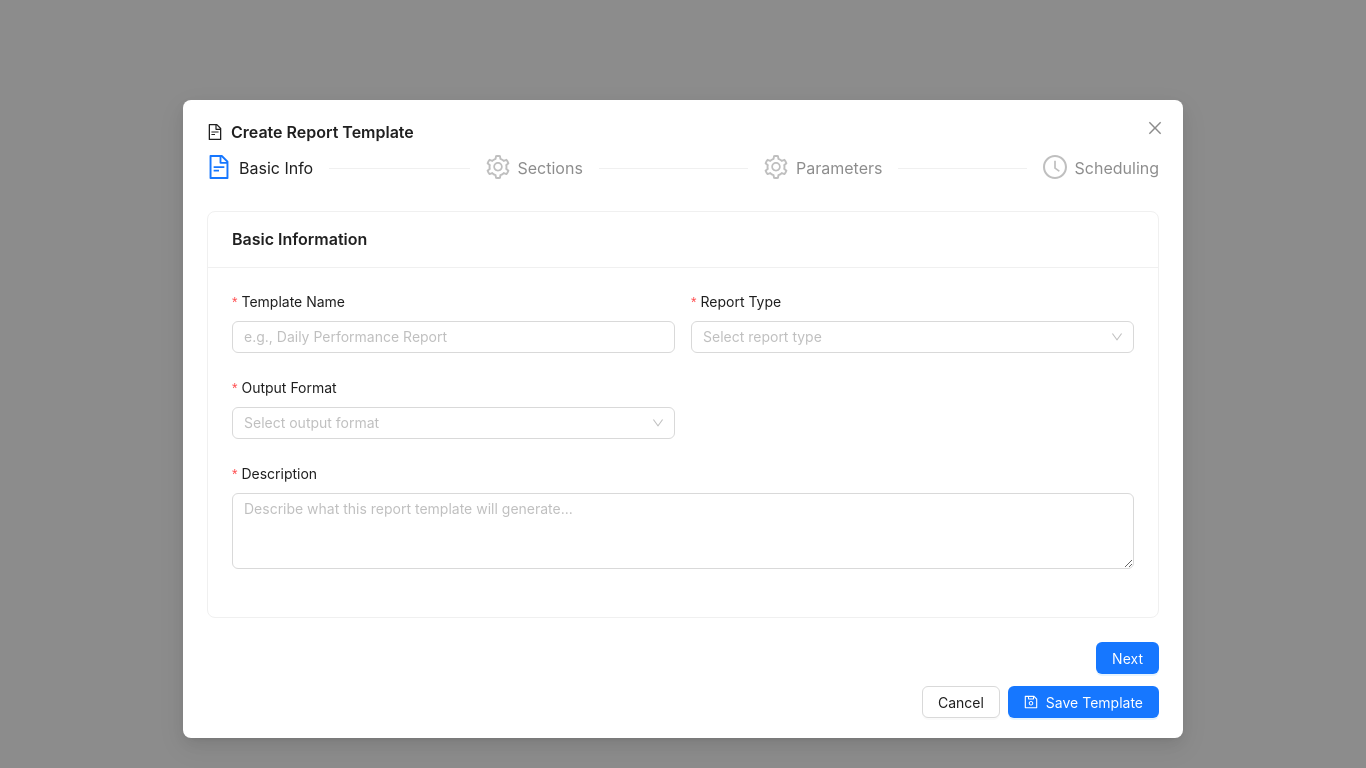
Test: ReportBuilder › Section Management › allows adding sections
// Navigate to sections step
Click the button "Sections" at (534, 167), box [486,155,583,179]
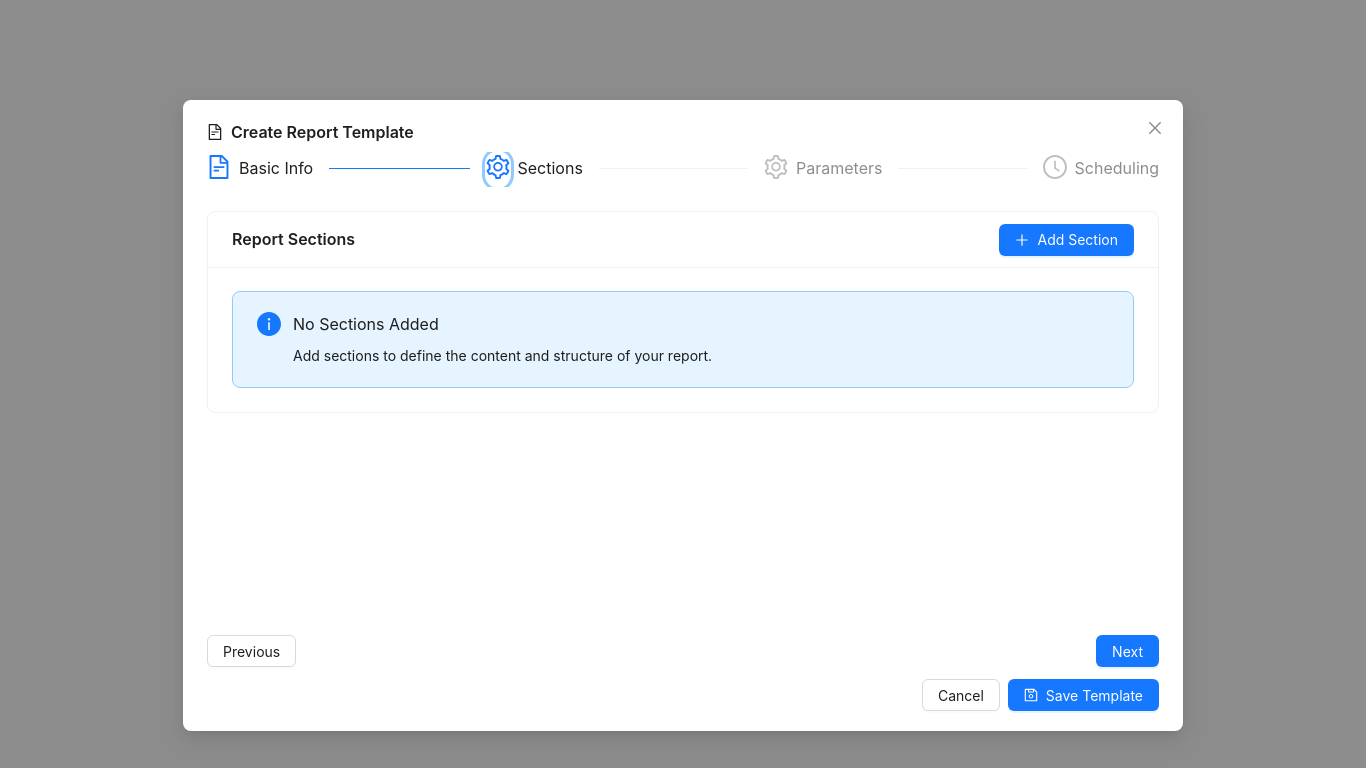
Click the button "Add Section" at (1067, 240), box [1000,224,1134,256]
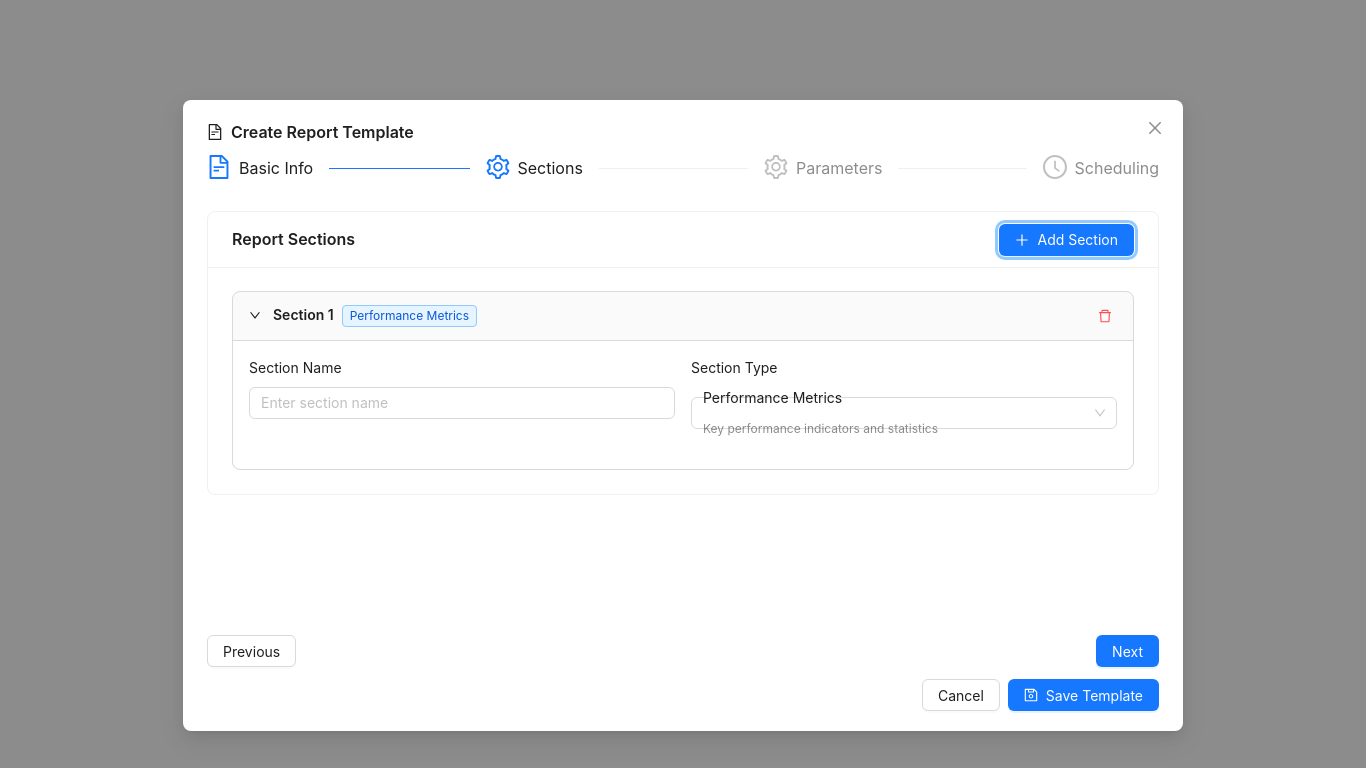
Now the text "Section 1" is shown, box [273,306,334,323]
